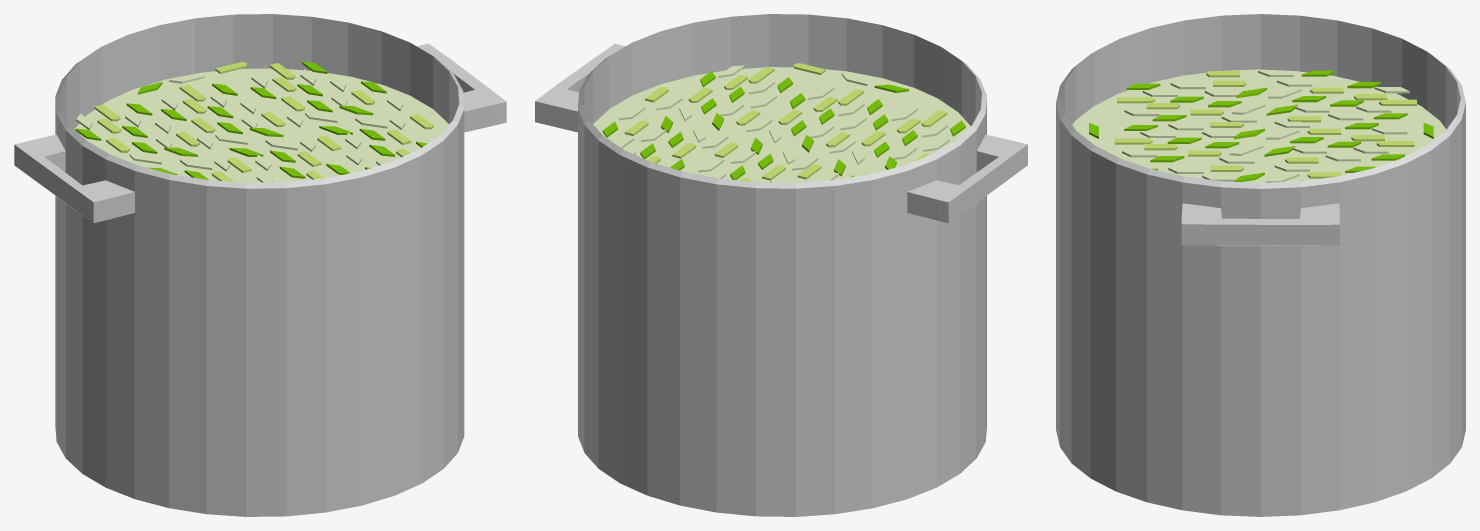
The model's file is OllaRepollo.fbx.
3 renders of one model, left to right at view 1: azimuth 30°, elevation 25°; view 2: azimuth 150°, elevation 25°; view 3: azimuth 270°, elevation 25°, orthographic.
Parts seen in each view (by area): view 1: Olla.001, Circle.001, Repollo.016; view 2: Olla.001, Circle.001, Repollo.016; view 3: Olla.001, Circle.001, Repollo.016.
Boxes of the visible parts, <box> form: Olla.001: <box>14,14,506,516</box>; Circle.001: <box>74,68,449,182</box>; Repollo.016: <box>75,61,433,182</box>; Olla.001: <box>535,14,1027,516</box>; Circle.001: <box>593,67,970,182</box>; Repollo.016: <box>602,63,965,182</box>; Olla.001: <box>1056,14,1465,516</box>; Circle.001: <box>1072,69,1446,182</box>; Repollo.016: <box>1089,70,1433,182</box>.
Size of the model in its own units: 22.63 by 17.32 by 19.37.
